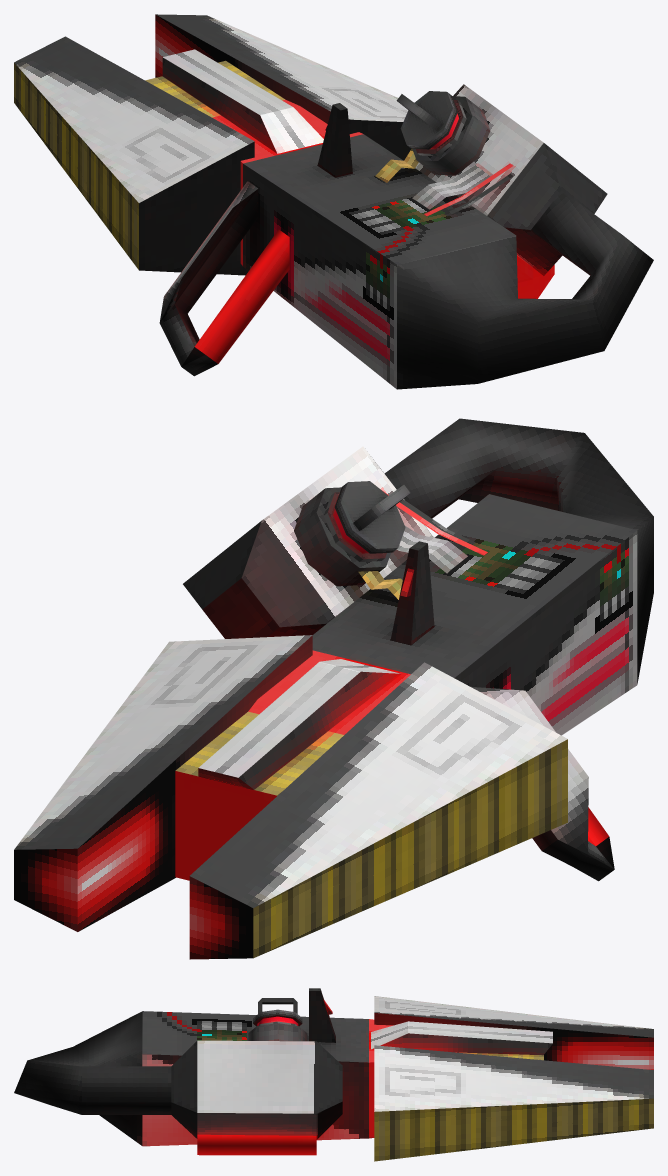
3 renders of one model, top to bottom at view 1: azimuth 30°, elevation 25°; view 2: azimuth 150°, elevation 25°; view 3: azimuth 270°, elevation 25°, orthographic. The views are drawn at different scales.
Parts seen in each view (by area): view 1: sci-fi weapon.001; view 2: sci-fi weapon.001; view 3: sci-fi weapon.001.
Boxes of the visible parts, left/top/right/bottom form: sci-fi weapon.001: left=14, top=14, right=653, bottom=389; sci-fi weapon.001: left=14, top=418, right=653, bottom=959; sci-fi weapon.001: left=14, top=988, right=653, bottom=1161.
Size of the model in its own units: 0.7393 by 0.5005 by 1.59.
Materials: 1 (1 with a texture image).
